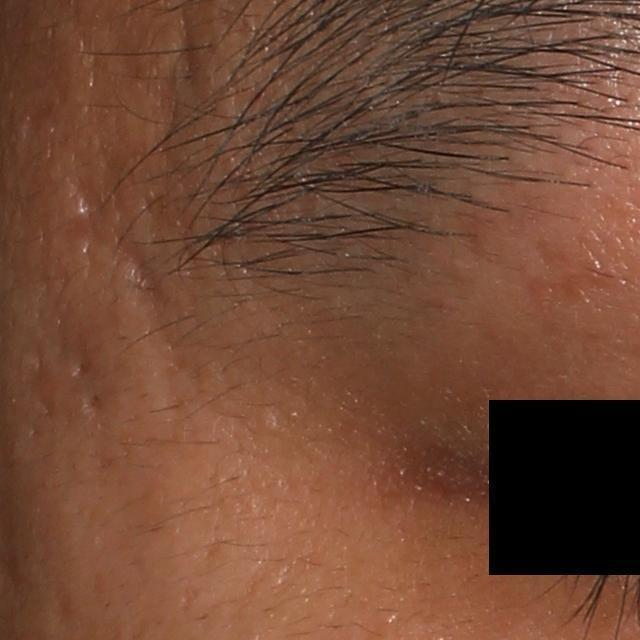atrophic_scar: (152, 18, 212, 152), (115, 223, 168, 322), (83, 388, 107, 416)
